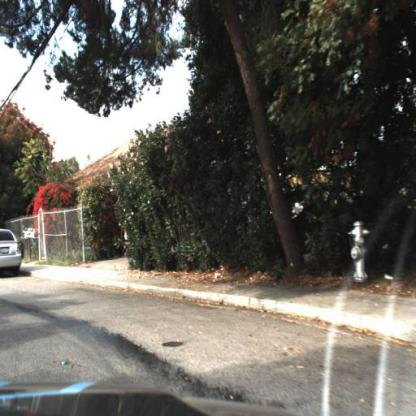car: (1, 227, 24, 281)
